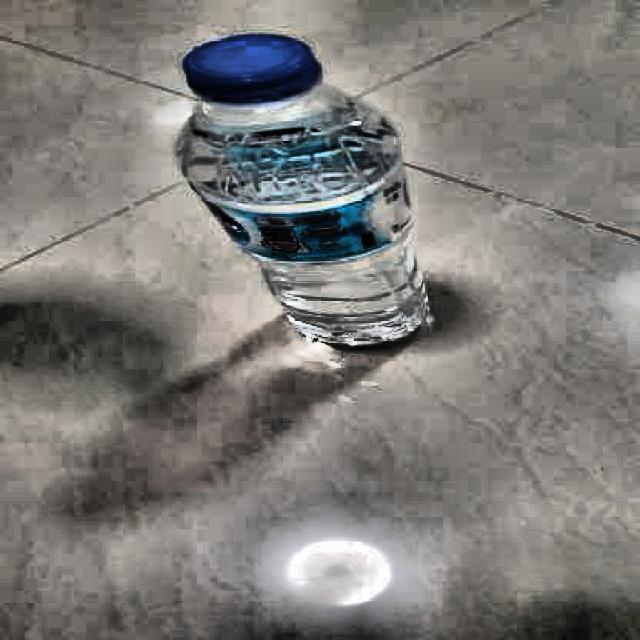Bottles: (166, 28, 452, 348)
